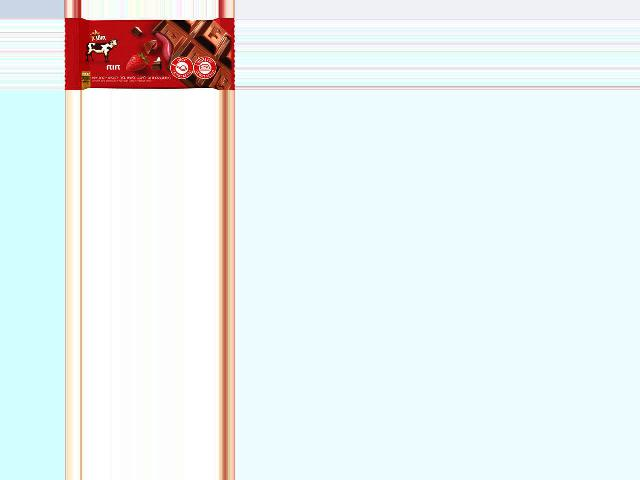chocolate: (63, 18, 234, 90)
